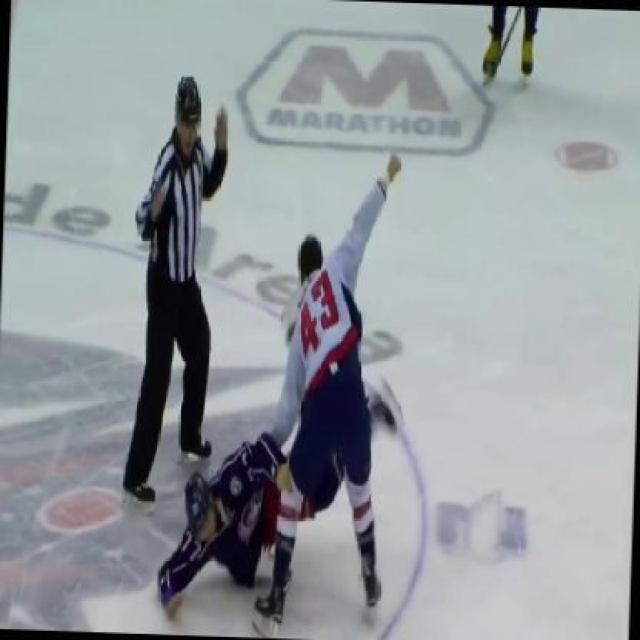fight: (152, 154, 402, 638)
non-fight: (111, 65, 240, 509)
